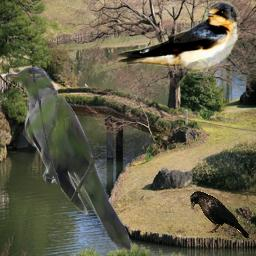Crow: (190, 191, 250, 239)
Cuckoo: (6, 66, 138, 253)
Swallow: (92, 1, 240, 78)
